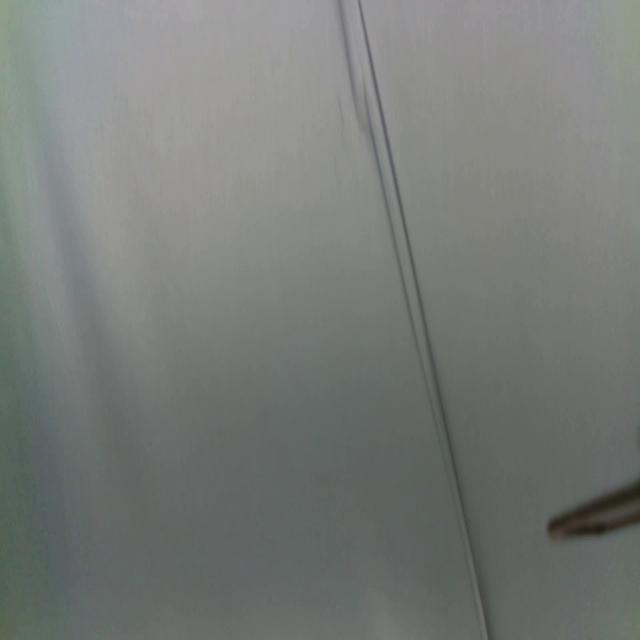crease: (338, 0, 491, 640)
